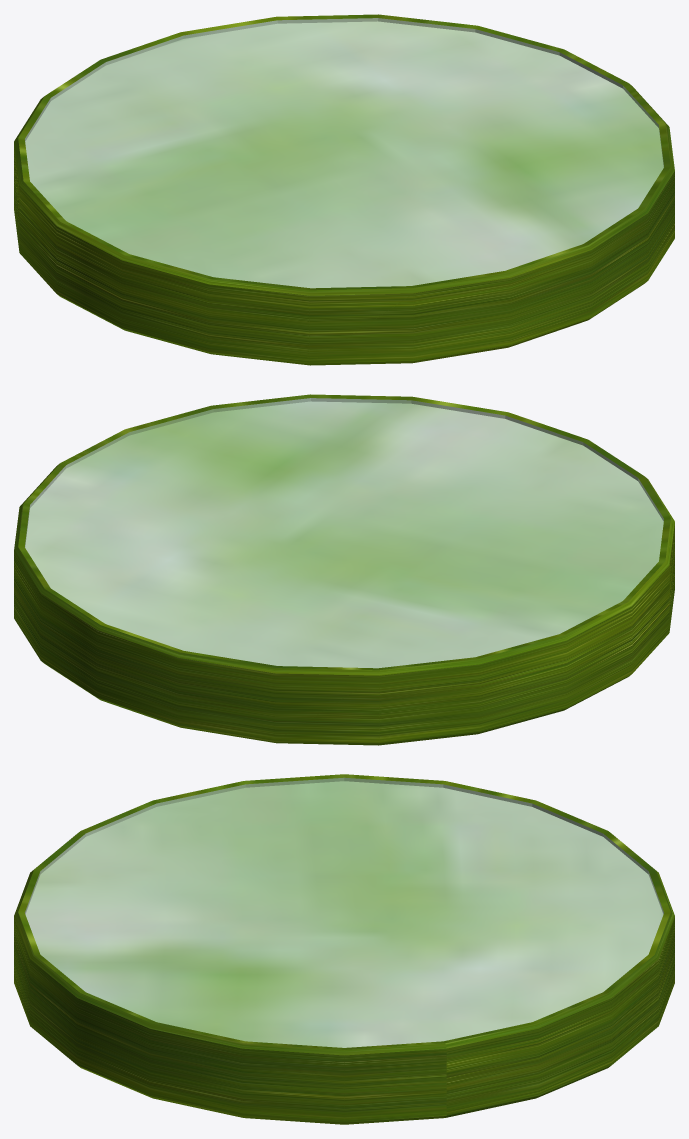
The model's file is cucumberSlice.fbx.
3 renders of one model, top to bottom at view 1: azimuth 30°, elevation 25°; view 2: azimuth 150°, elevation 25°; view 3: azimuth 270°, elevation 25°, orthographic.
Visible parts, largest first — view 1: cucumberSlice; view 2: cucumberSlice; view 3: cucumberSlice.
Part boxes in pixels (x1,y1,x2,y2): cucumberSlice: [14, 14, 674, 365]; cucumberSlice: [14, 394, 674, 745]; cucumberSlice: [14, 774, 674, 1124].
Size of the model in its own units: 0.5643 by 0.0704 by 0.5643.
Materials: 2 (2 with a texture image).
